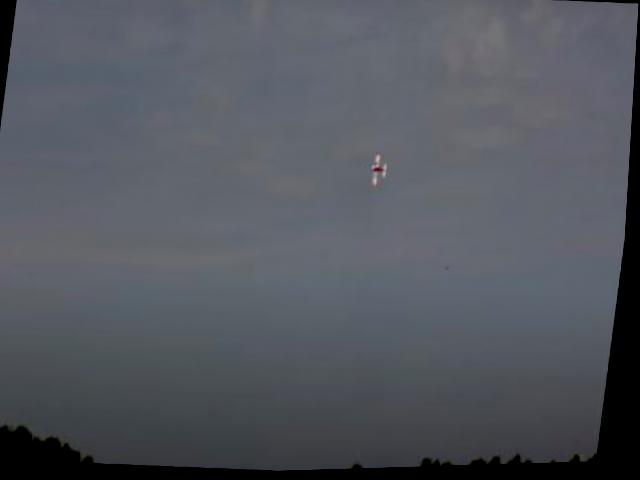uav: (366, 147, 398, 193)
